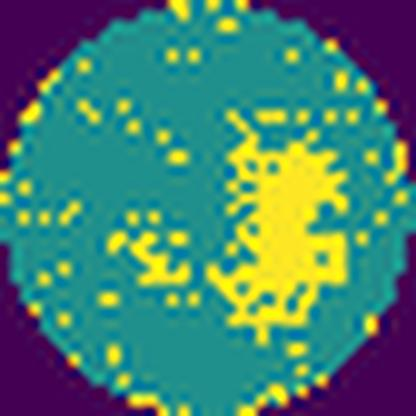Loc: (206, 106, 352, 342), (107, 227, 190, 285)
